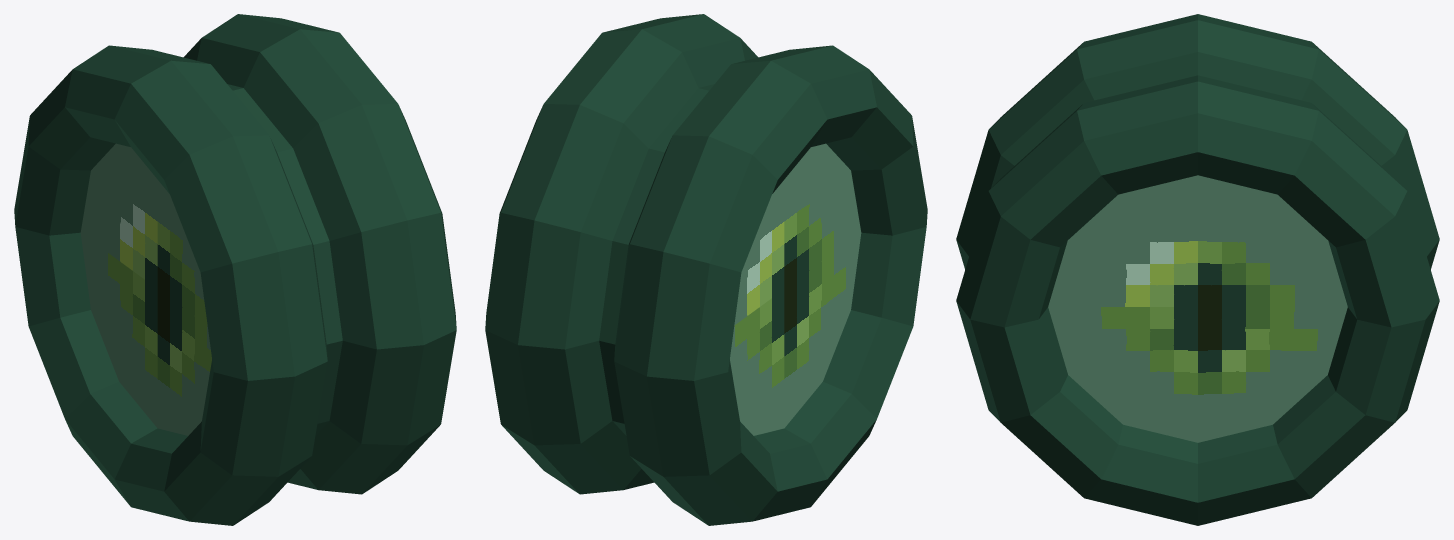
File: ender_yoyo.obj
3 views of the same model, side by side, from view 1: azimuth 30°, elevation 25°; view 2: azimuth 150°, elevation 25°; view 3: azimuth 270°, elevation 25° (orthographic). The views are drawn at different scales.
Parts seen in each view (by area): view 1: torus2, torus1, cylinder; view 2: torus2, torus1, cylinder; view 3: torus1, cylinder, torus2.
Boxes of the visible parts, x1,y1,x2,y2 form: torus2: (14, 45, 327, 525); torus1: (183, 14, 456, 494); cylinder: (80, 84, 342, 435); torus2: (614, 45, 927, 525); torus1: (485, 14, 758, 494); cylinder: (599, 84, 861, 435); torus1: (956, 75, 1439, 525); cylinder: (1048, 175, 1347, 442); torus2: (956, 14, 1439, 269).
Size of the model in its own units: 0.2812 by 0.5 by 0.5.
